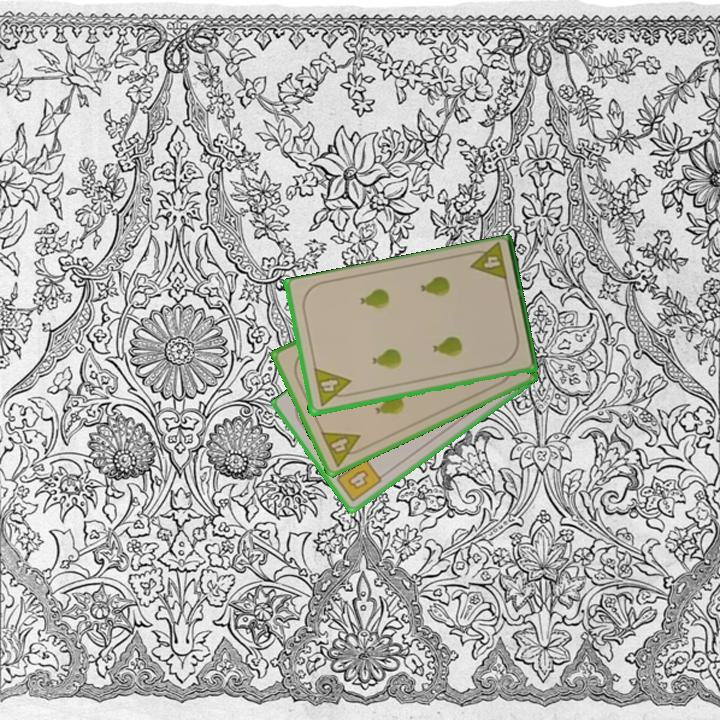4b: (331, 454, 385, 505)
4p: (317, 428, 369, 470), (310, 365, 355, 410), (464, 241, 510, 285)
